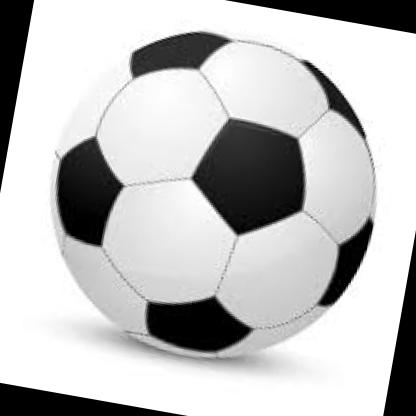ball: (28, 9, 402, 386)
